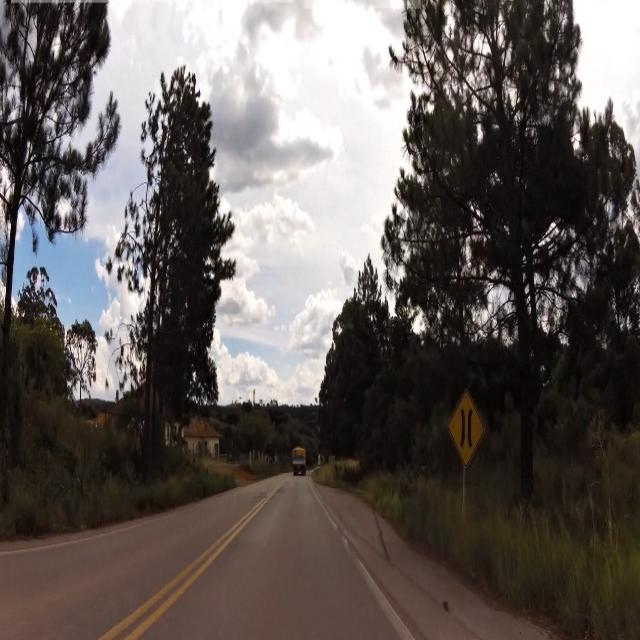A-22: (447, 390, 482, 466)
